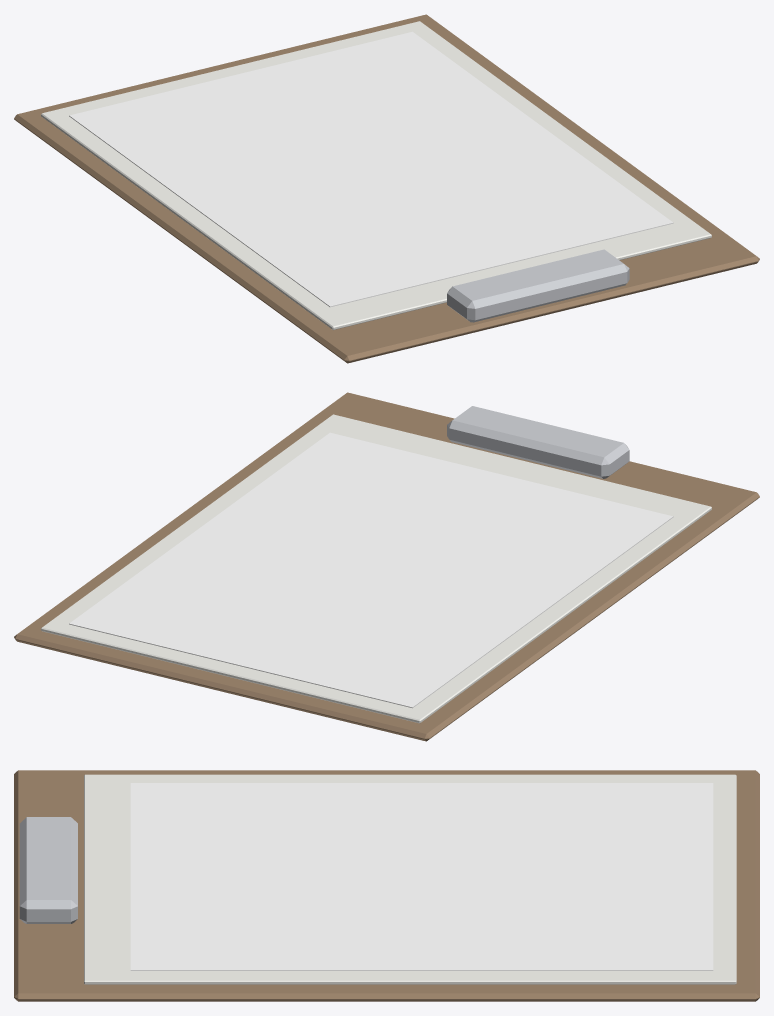
The model's file is oficio_prancheta.obj.
3 views of the same model, one above another, from view 1: azimuth 30°, elevation 25°; view 2: azimuth 150°, elevation 25°; view 3: azimuth 270°, elevation 25° (orthographic). The views are drawn at different scales.
Parts seen in each view (by area): view 1: oficio_prancheta; view 2: oficio_prancheta; view 3: oficio_prancheta.
Boxes of the visible parts, <box> form: oficio_prancheta: <box>14,14,759,363</box>; oficio_prancheta: <box>14,392,759,741</box>; oficio_prancheta: <box>14,770,759,1001</box>.
Size of the model in its own units: 0.23 by 0.015 by 0.32.
